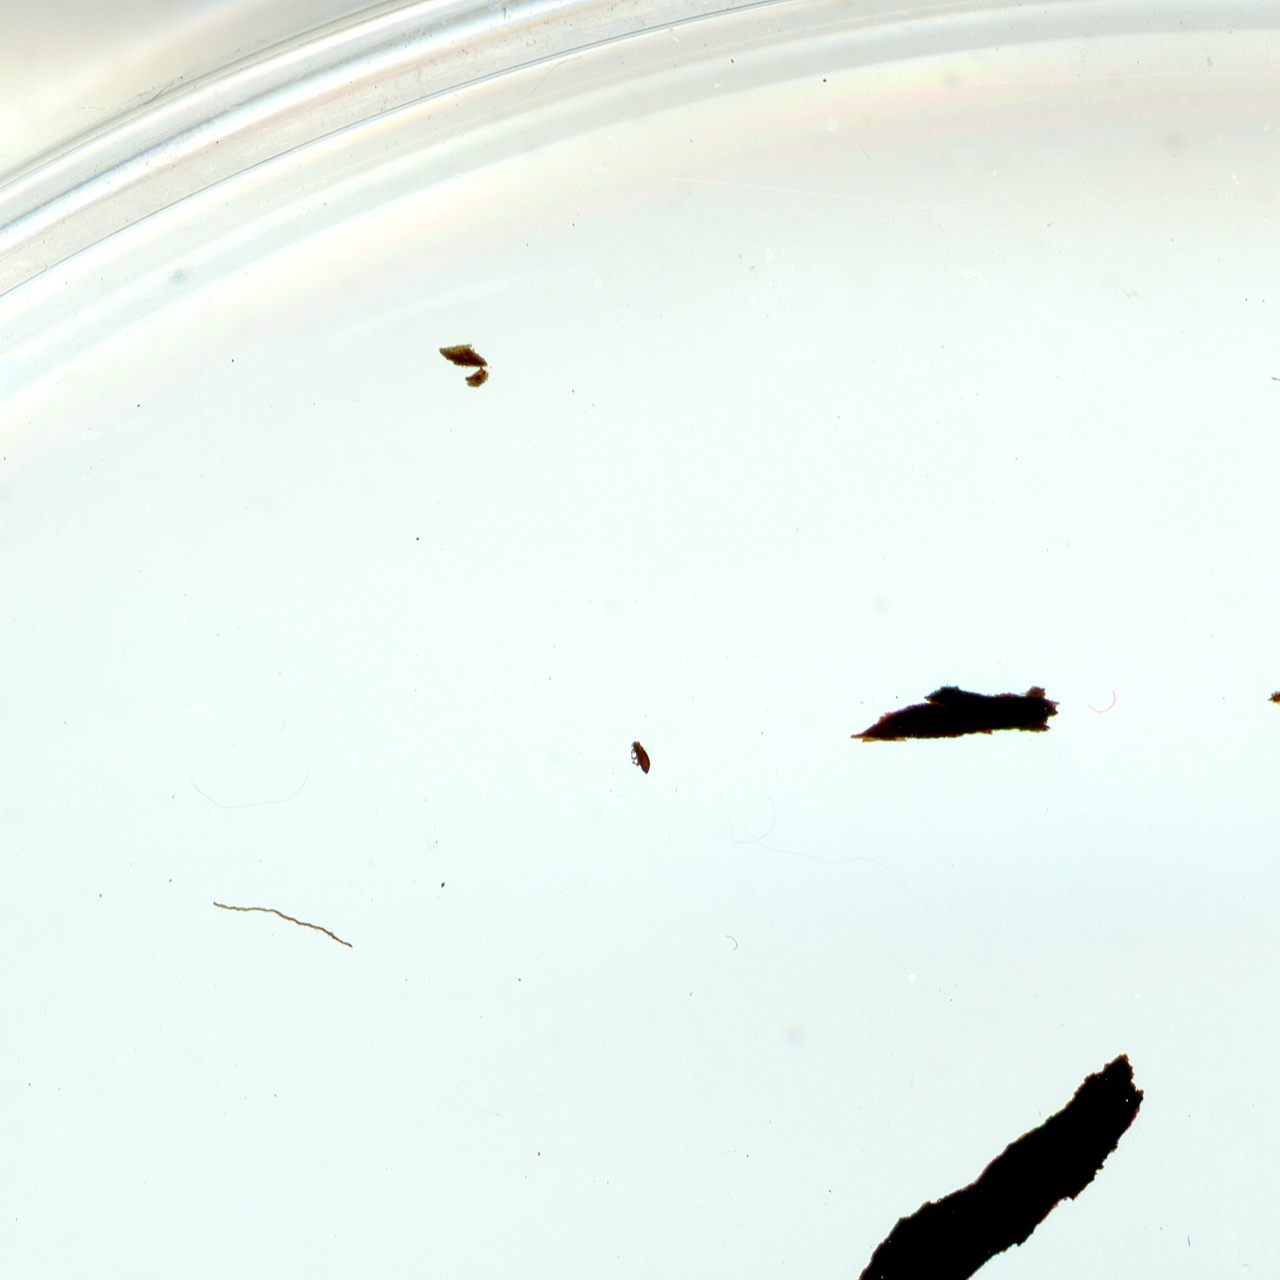arthropod: (627, 738, 658, 781), (1266, 349, 1280, 409)
